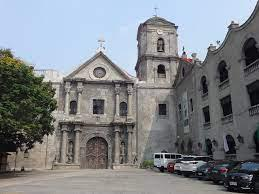San Agustin Church: (49, 4, 180, 171)
